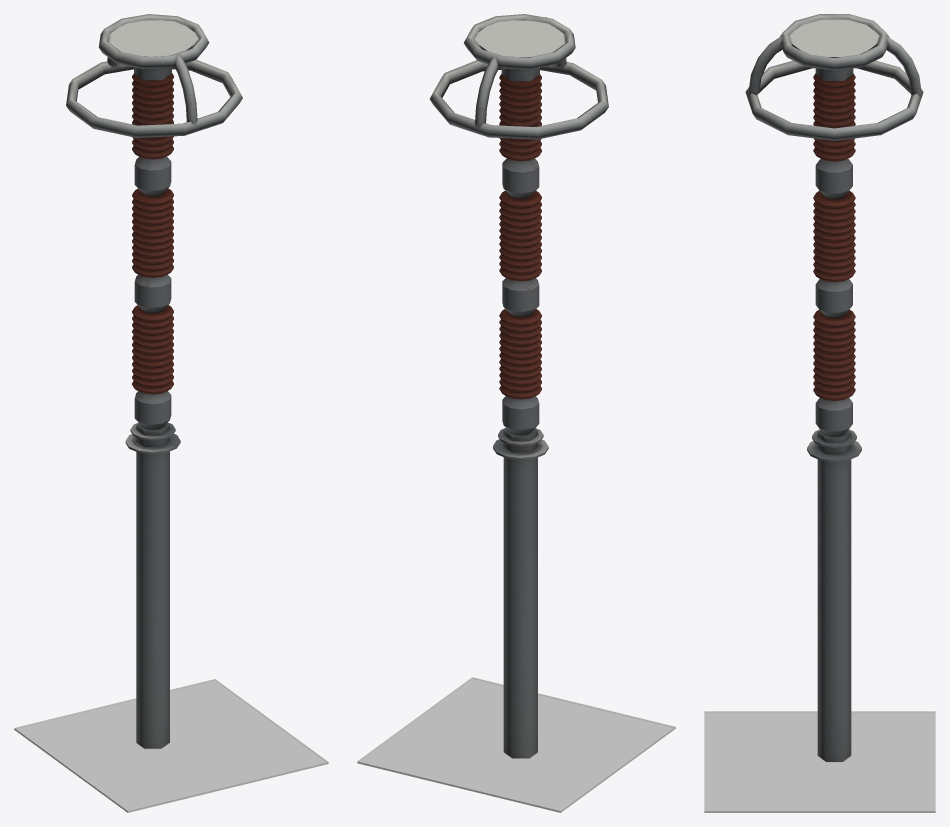
The model's file is bileiqi.obj.
3 views of the same model, side by side, from view 1: azimuth 30°, elevation 25°; view 2: azimuth 150°, elevation 25°; view 3: azimuth 270°, elevation 25° (orthographic).
Parts seen in each view (by area): view 1: Cylinder26783, Box001; view 2: Cylinder26783, Box001; view 3: Cylinder26783, Box001.
Part boxes in pixels (bbox=[...]): Cylinder26783: bbox=[66, 14, 242, 748]; Box001: bbox=[14, 679, 328, 812]; Cylinder26783: bbox=[429, 14, 608, 758]; Box001: bbox=[357, 677, 675, 812]; Cylinder26783: bbox=[745, 14, 923, 761]; Box001: bbox=[704, 711, 935, 812].
Size of the model in its own units: 151 by 509 by 148.
